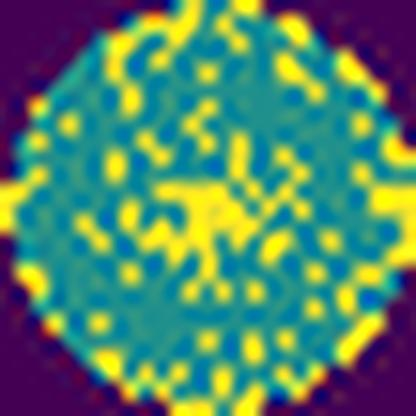Center: (116, 129, 314, 303)
